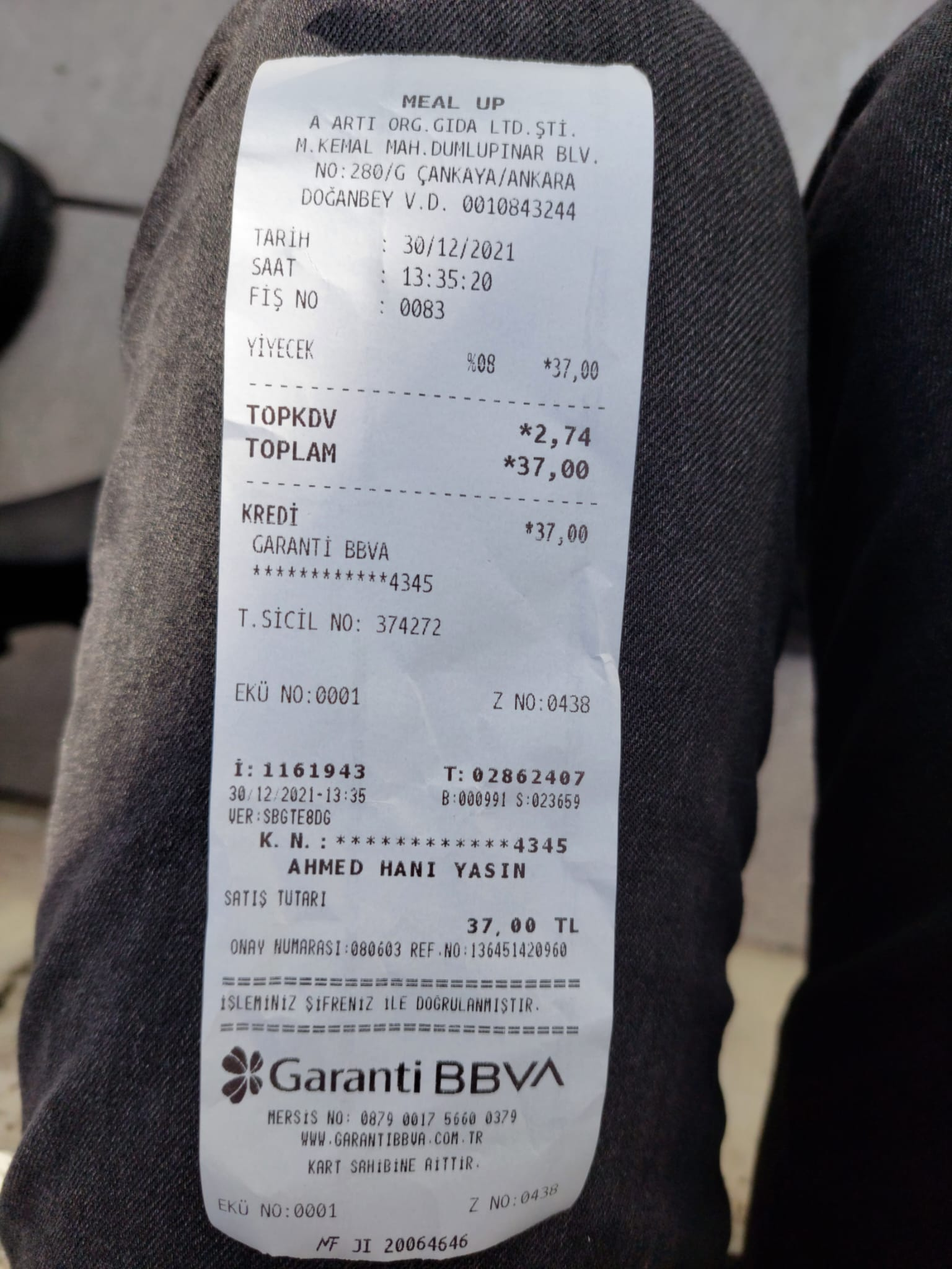date: (510, 446, 602, 491)
price: (395, 227, 519, 267)
workplace: (287, 86, 616, 193)
